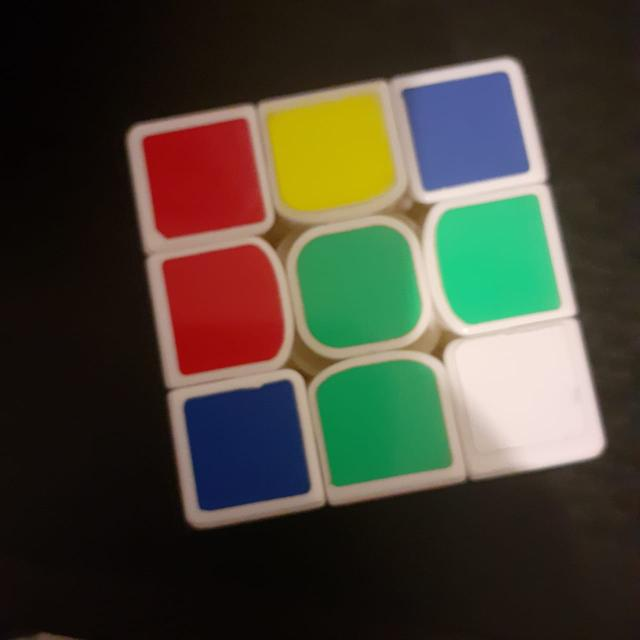Blue: (188, 396, 308, 502), (407, 86, 525, 182)
Green: (296, 234, 419, 338), (436, 209, 552, 317), (324, 382, 444, 484)
Red: (132, 126, 262, 234), (158, 258, 276, 366)
White: (460, 349, 584, 459)
Yellow: (271, 105, 393, 207)
